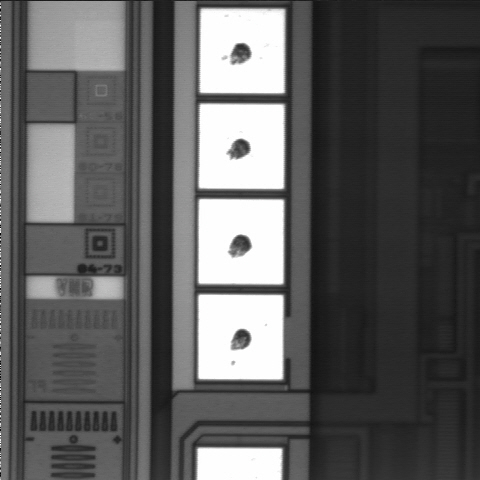pad: (199, 104, 284, 189), (199, 199, 284, 284), (198, 295, 283, 379), (200, 9, 284, 93)
